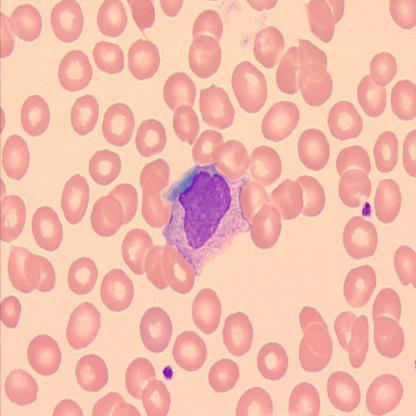Atypical lymphocyte: (163, 162, 259, 271)
